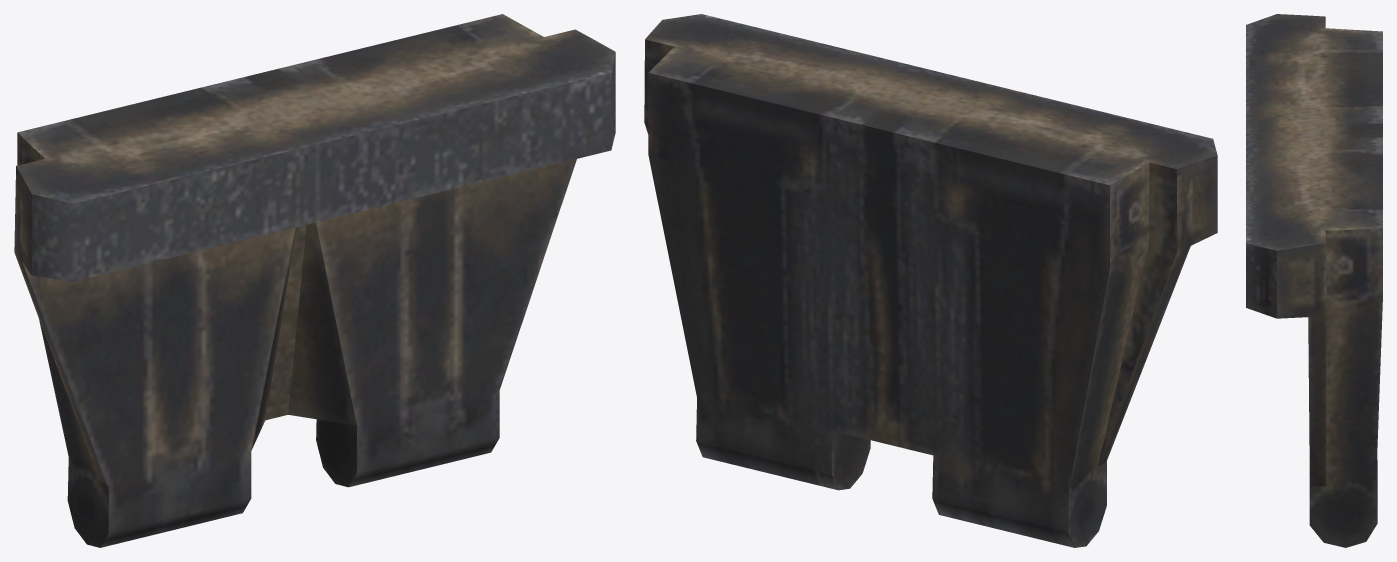
3 renders of one model, left to right at view 1: azimuth 30°, elevation 25°; view 2: azimuth 150°, elevation 25°; view 3: azimuth 270°, elevation 25°, orthographic. The views are drawn at different scales.
Parts seen in each view (by area): view 1: set_0_group_0; view 2: set_0_group_0; view 3: set_0_group_0.
Part boxes in pixels (left/top/right/bottom): set_0_group_0: left=14, top=14, right=615, bottom=547; set_0_group_0: left=644, top=14, right=1217, bottom=547; set_0_group_0: left=1246, top=14, right=1382, bottom=547.
Size of the model in its own units: 0.3012 by 0.2011 by 0.0735.
Materials: 1 (1 with a texture image).
